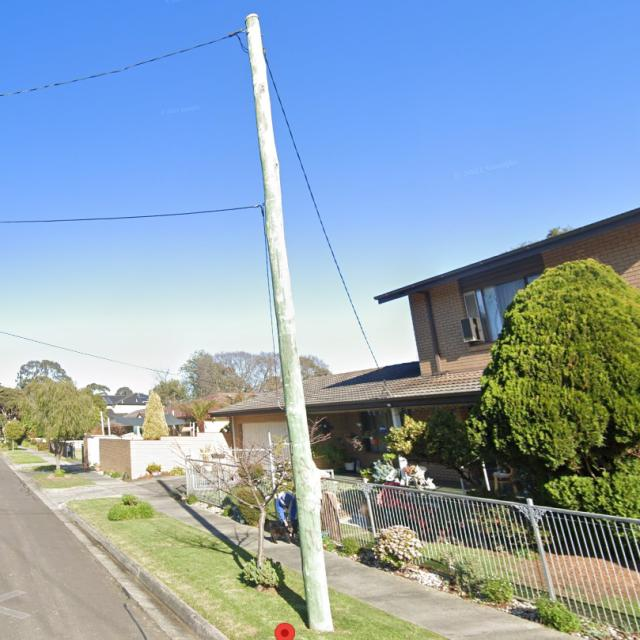timber-pole: (243, 13, 335, 633)
